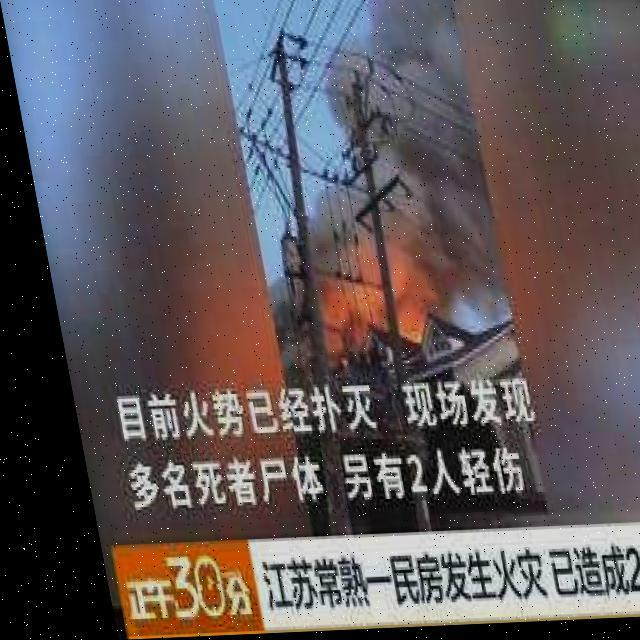Fire: (292, 226, 434, 358)
